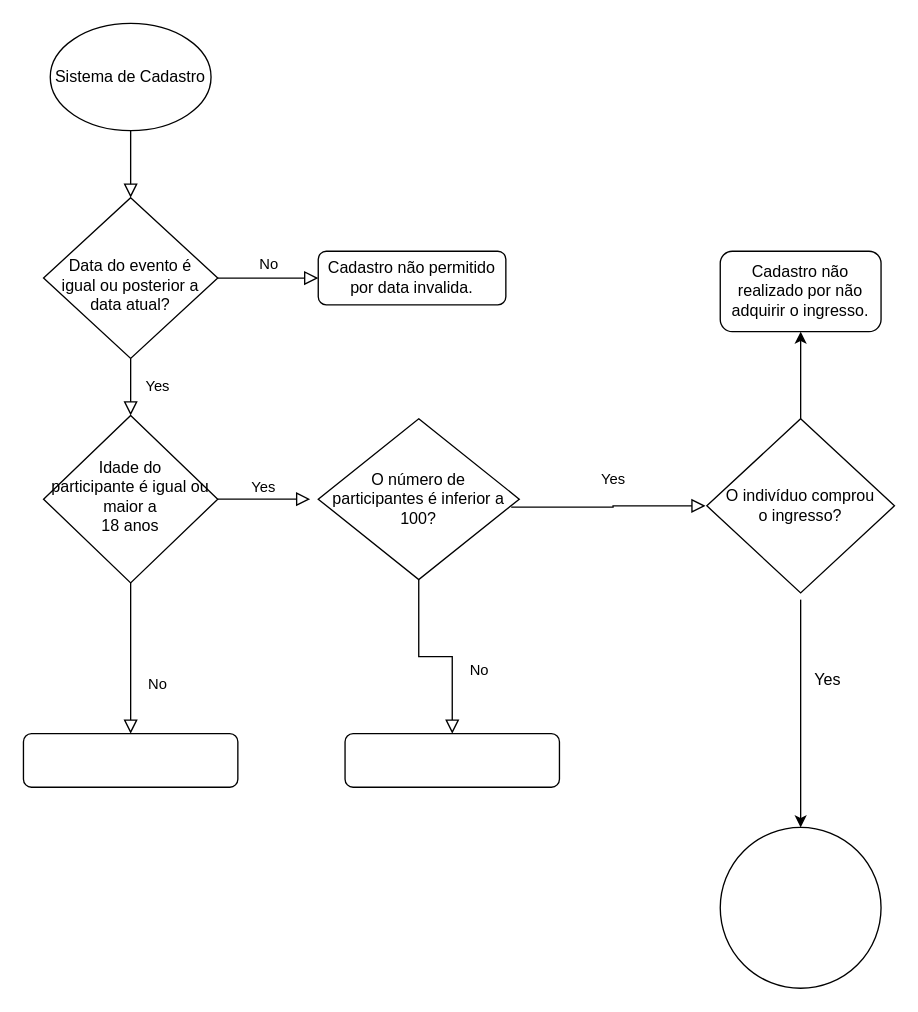
This 918x1012 diagram has some shape labels left out. The centre of each missing label's shape, as x and y in pixels:
Cadastro concluído com sucesso!: [800,907]
Cadastro não concluído pois o evento já está cheio.: [451,759]
Cadastro não concluído por não ter a idade mínima.: [130,759]
